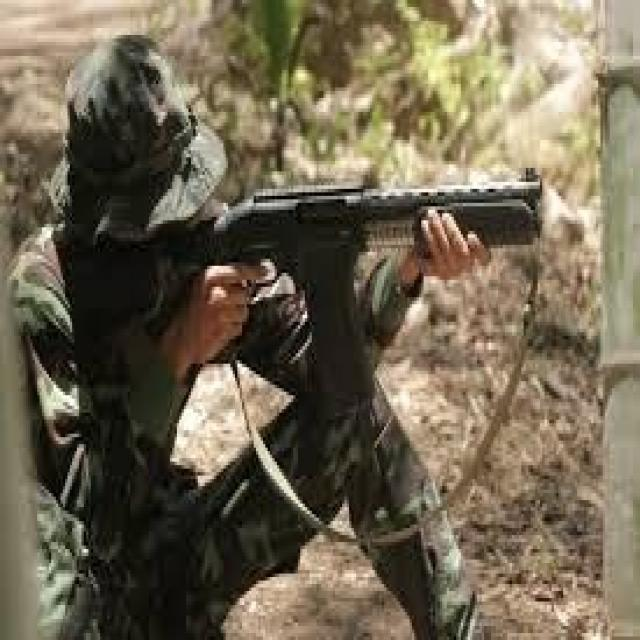gun: (66, 167, 544, 427)
